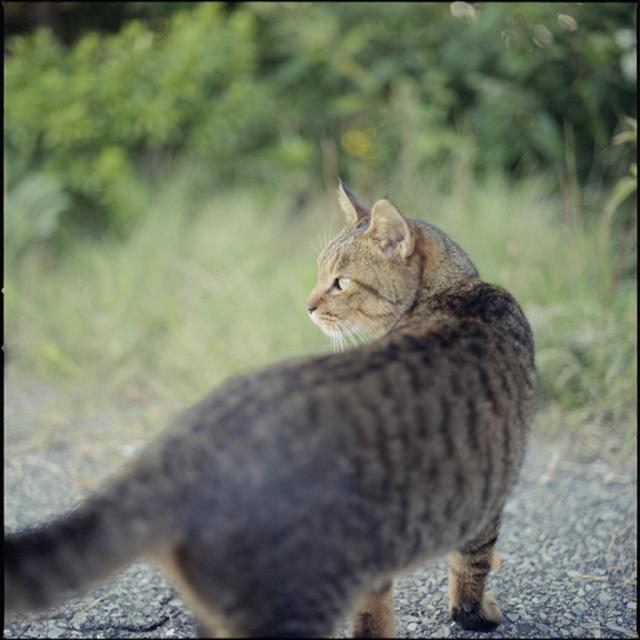Cat: (3, 175, 538, 638)
